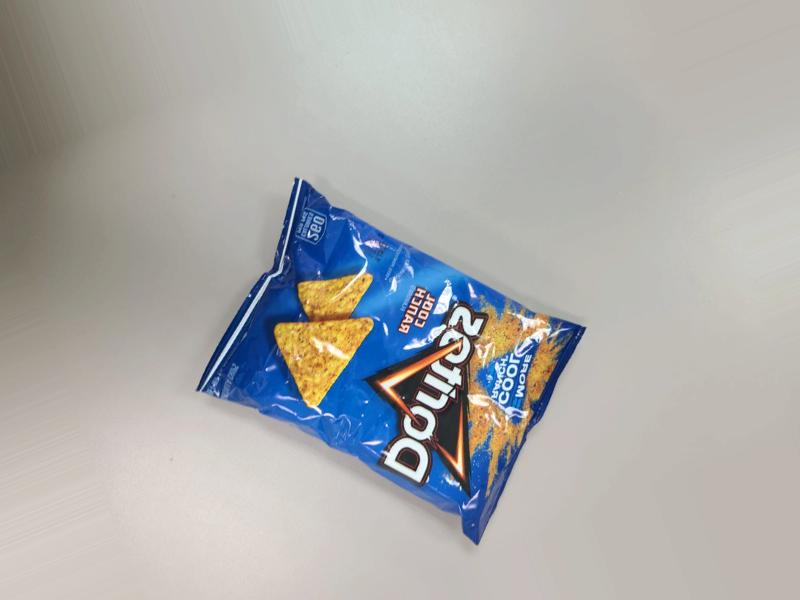doritos: (188, 164, 584, 552)
